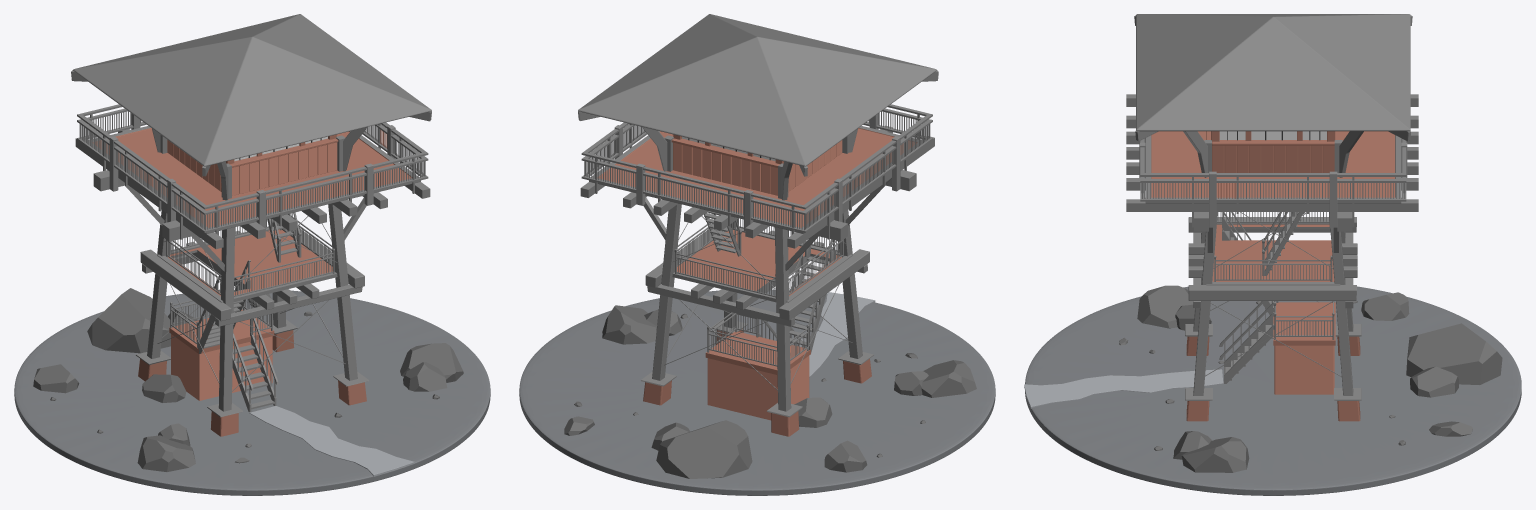
The model's file is tower.fbx.
3 views of the same model, side by side, from view 1: azimuth 30°, elevation 25°; view 2: azimuth 150°, elevation 25°; view 3: azimuth 270°, elevation 25° (orthographic). The views are drawn at different scales.
Parts seen in each view (by area): view 1: Circle, roof, Plane.003, Plane.002, Plane.004, Icosphere.006, Icosphere.002, Vert.016, Plane.005, Plane.094, Plane.006, Plane.012 (+20 smaller); view 2: Circle, roof, Plane.003, Plane.002, Plane.004, Icosphere.002, Plane.005, Icosphere.006, Plane.095, Plane.006, Plane.012, Plane.147 (+23 smaller); view 3: Circle, roof, Plane.003, Plane.004, Icosphere.006, Icosphere.002, Plane.006, Plane.012, Plane.002, Plane.097, Vert.016, Plane.005 (+12 smaller).
Part boxes in pixels (<box>): Circle: <box>14,289,490,495</box>; roof: <box>73,14,431,166</box>; Plane.003: <box>87,126,420,233</box>; Plane.002: <box>147,203,357,411</box>; Plane.004: <box>157,226,337,302</box>; Icosphere.006: <box>137,343,463,471</box>; Icosphere.002: <box>87,288,174,353</box>; Vert.016: <box>249,406,414,476</box>; Plane.005: <box>171,334,272,400</box>; Plane.094: <box>232,142,337,195</box>; Plane.006: <box>169,262,276,412</box>; Plane.012: <box>140,228,364,321</box>; Circle: <box>519,289,995,495</box>; roof: <box>578,14,936,166</box>; Plane.003: <box>589,126,922,233</box>; Plane.002: <box>652,203,862,411</box>; Plane.004: <box>672,227,852,302</box>; Icosphere.002: <box>656,420,752,478</box>; Plane.005: <box>707,356,809,420</box>; Icosphere.006: <box>602,305,976,397</box>; Plane.095: <box>673,142,777,195</box>; Plane.006: <box>705,238,835,374</box>; Plane.012: <box>645,228,869,320</box>; Plane.147: <box>581,104,932,209</box>; Circle: <box>1025,286,1521,495</box>; roof: <box>1136,14,1410,131</box>; Plane.003: <box>1145,131,1401,203</box>; Plane.004: <box>1206,220,1340,285</box>; Icosphere.006: <box>1137,285,1249,472</box>; Icosphere.002: <box>1406,323,1502,384</box>; Plane.006: <box>1222,212,1335,383</box>; Plane.012: <box>1188,217,1356,300</box>; Plane.002: <box>1193,212,1353,395</box>; Plane.097: <box>1212,145,1334,172</box>; Vert.016: <box>1024,369,1223,408</box>; Plane.005: <box>1274,345,1334,394</box>.
Bounding box in the file's own units: 3627 × 3026 × 3633.
